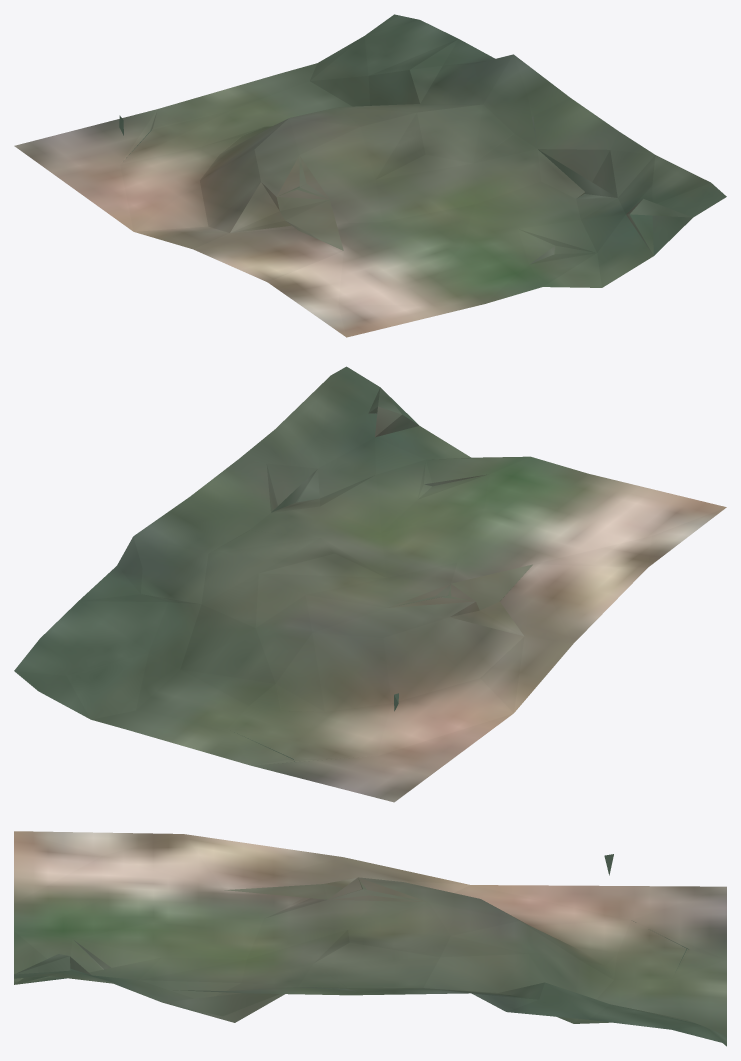
The model's file is Tile__006__008_L15_0.glb.
3 views of the same model, one above another, from view 1: azimuth 30°, elevation 25°; view 2: azimuth 150°, elevation 25°; view 3: azimuth 270°, elevation 25° (orthographic). The views are drawn at different scales.
Parts seen in each view (by area): view 1: root; view 2: root; view 3: root.
Boxes of the visible parts, x1,y1,x2,y2 form: root: (14, 14, 726, 337); root: (14, 366, 726, 802); root: (14, 831, 726, 1046).
Bounding box in the file's own units: 62.64 × 16.34 × 94.87.
Materials: 1 (1 with a texture image).
